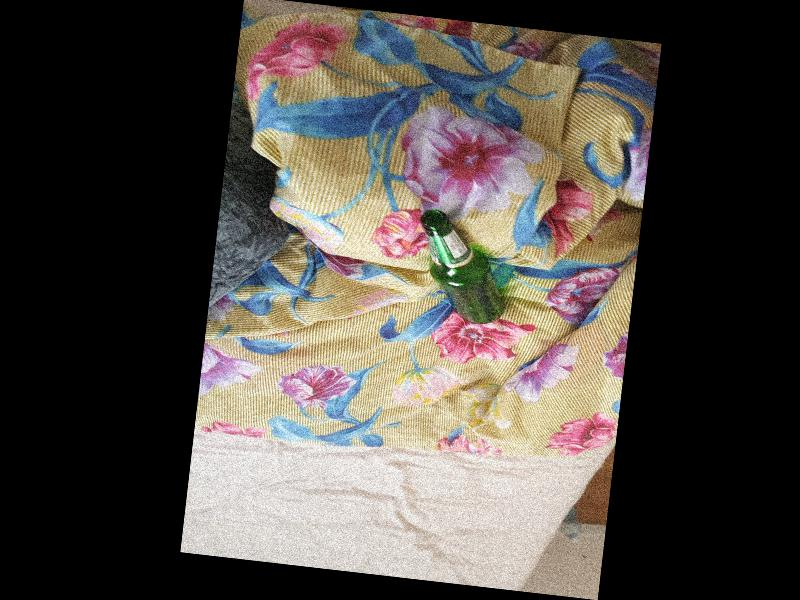Beer: (411, 207, 515, 325)
